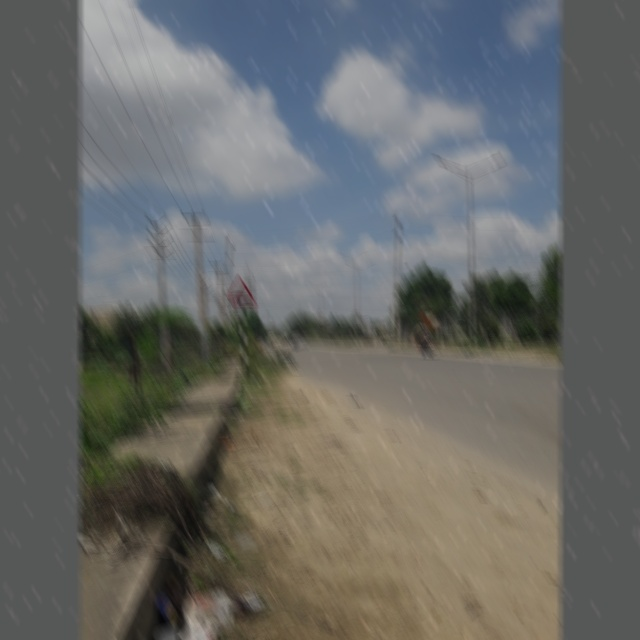Hump_or_Rough_Road: (225, 276, 259, 306)
